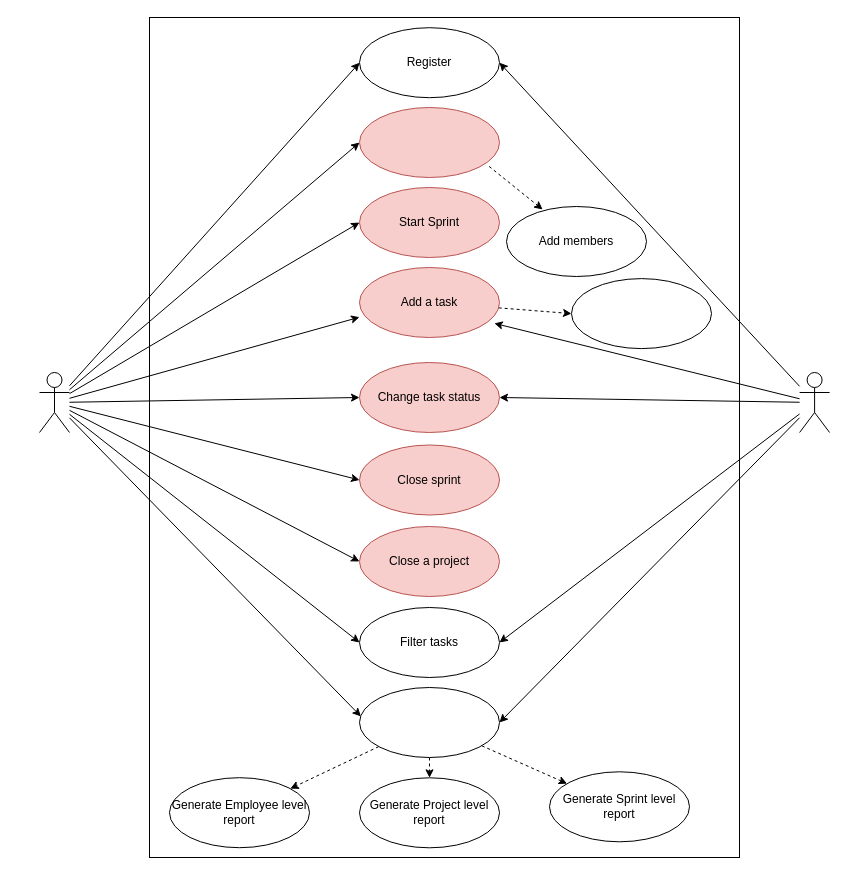
Some shapes in this 854 by 875 pixel diagram are drawn without their labels. The shapes that lost their labels are listed below. From the top down, each one's centre as x and y in pixels, then its label:
pixel 429 142: Create a project
pixel 641 313: Assign to members
pixel 54 402: Scrum Master
pixel 814 402: Member
pixel 429 722: Generate report
